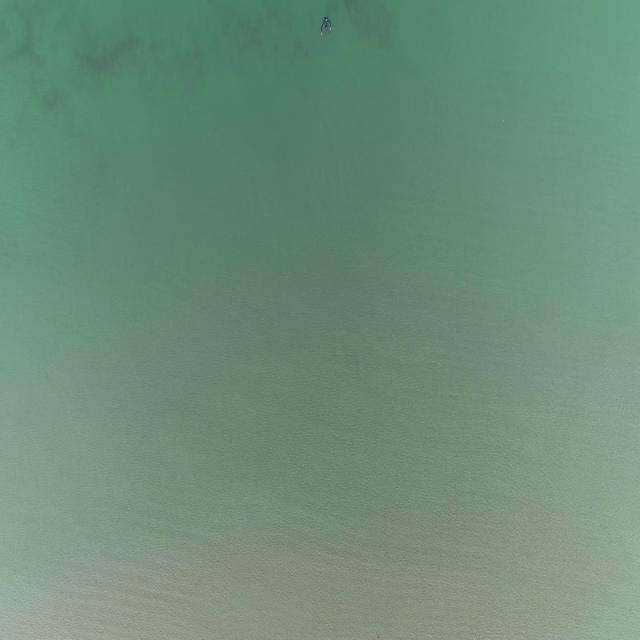person: (320, 15, 333, 36)
